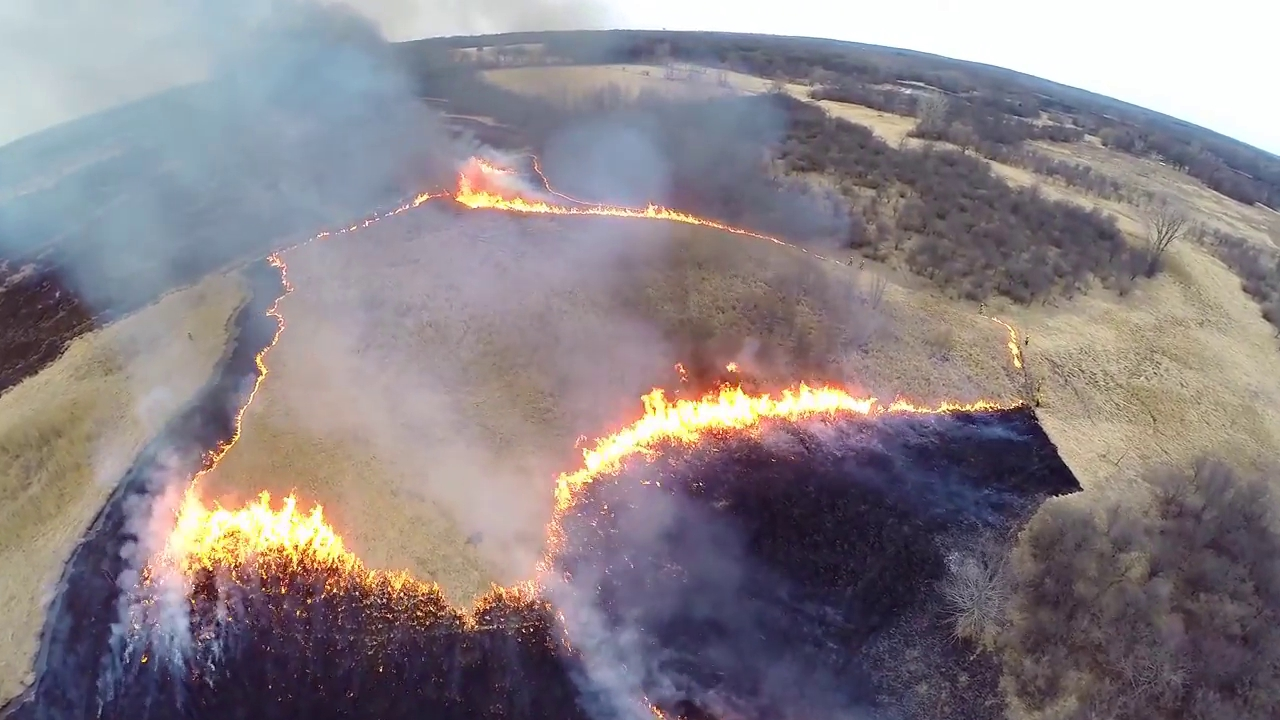forest_fire: (147, 252, 1022, 629), (384, 158, 784, 243)
